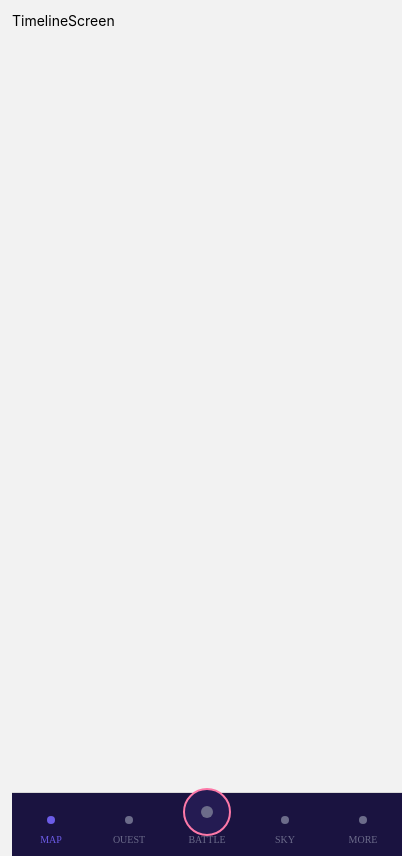
Test: MainTab › switches to QUEST tab and shows QuestBoardScreen
Click the tab with aria-label "퀘스트": (129, 840) x1=113 y1=816 x2=145 y2=845
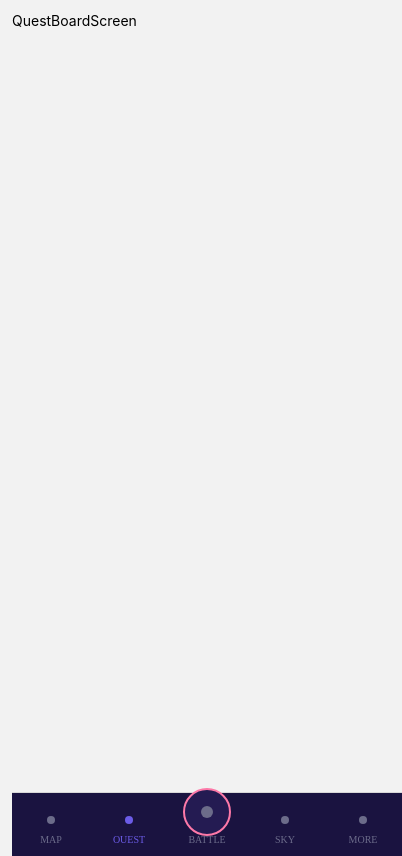
Expected: the text "QuestBoardScreen" is shown, x1=12 y1=12 x2=137 y2=29
